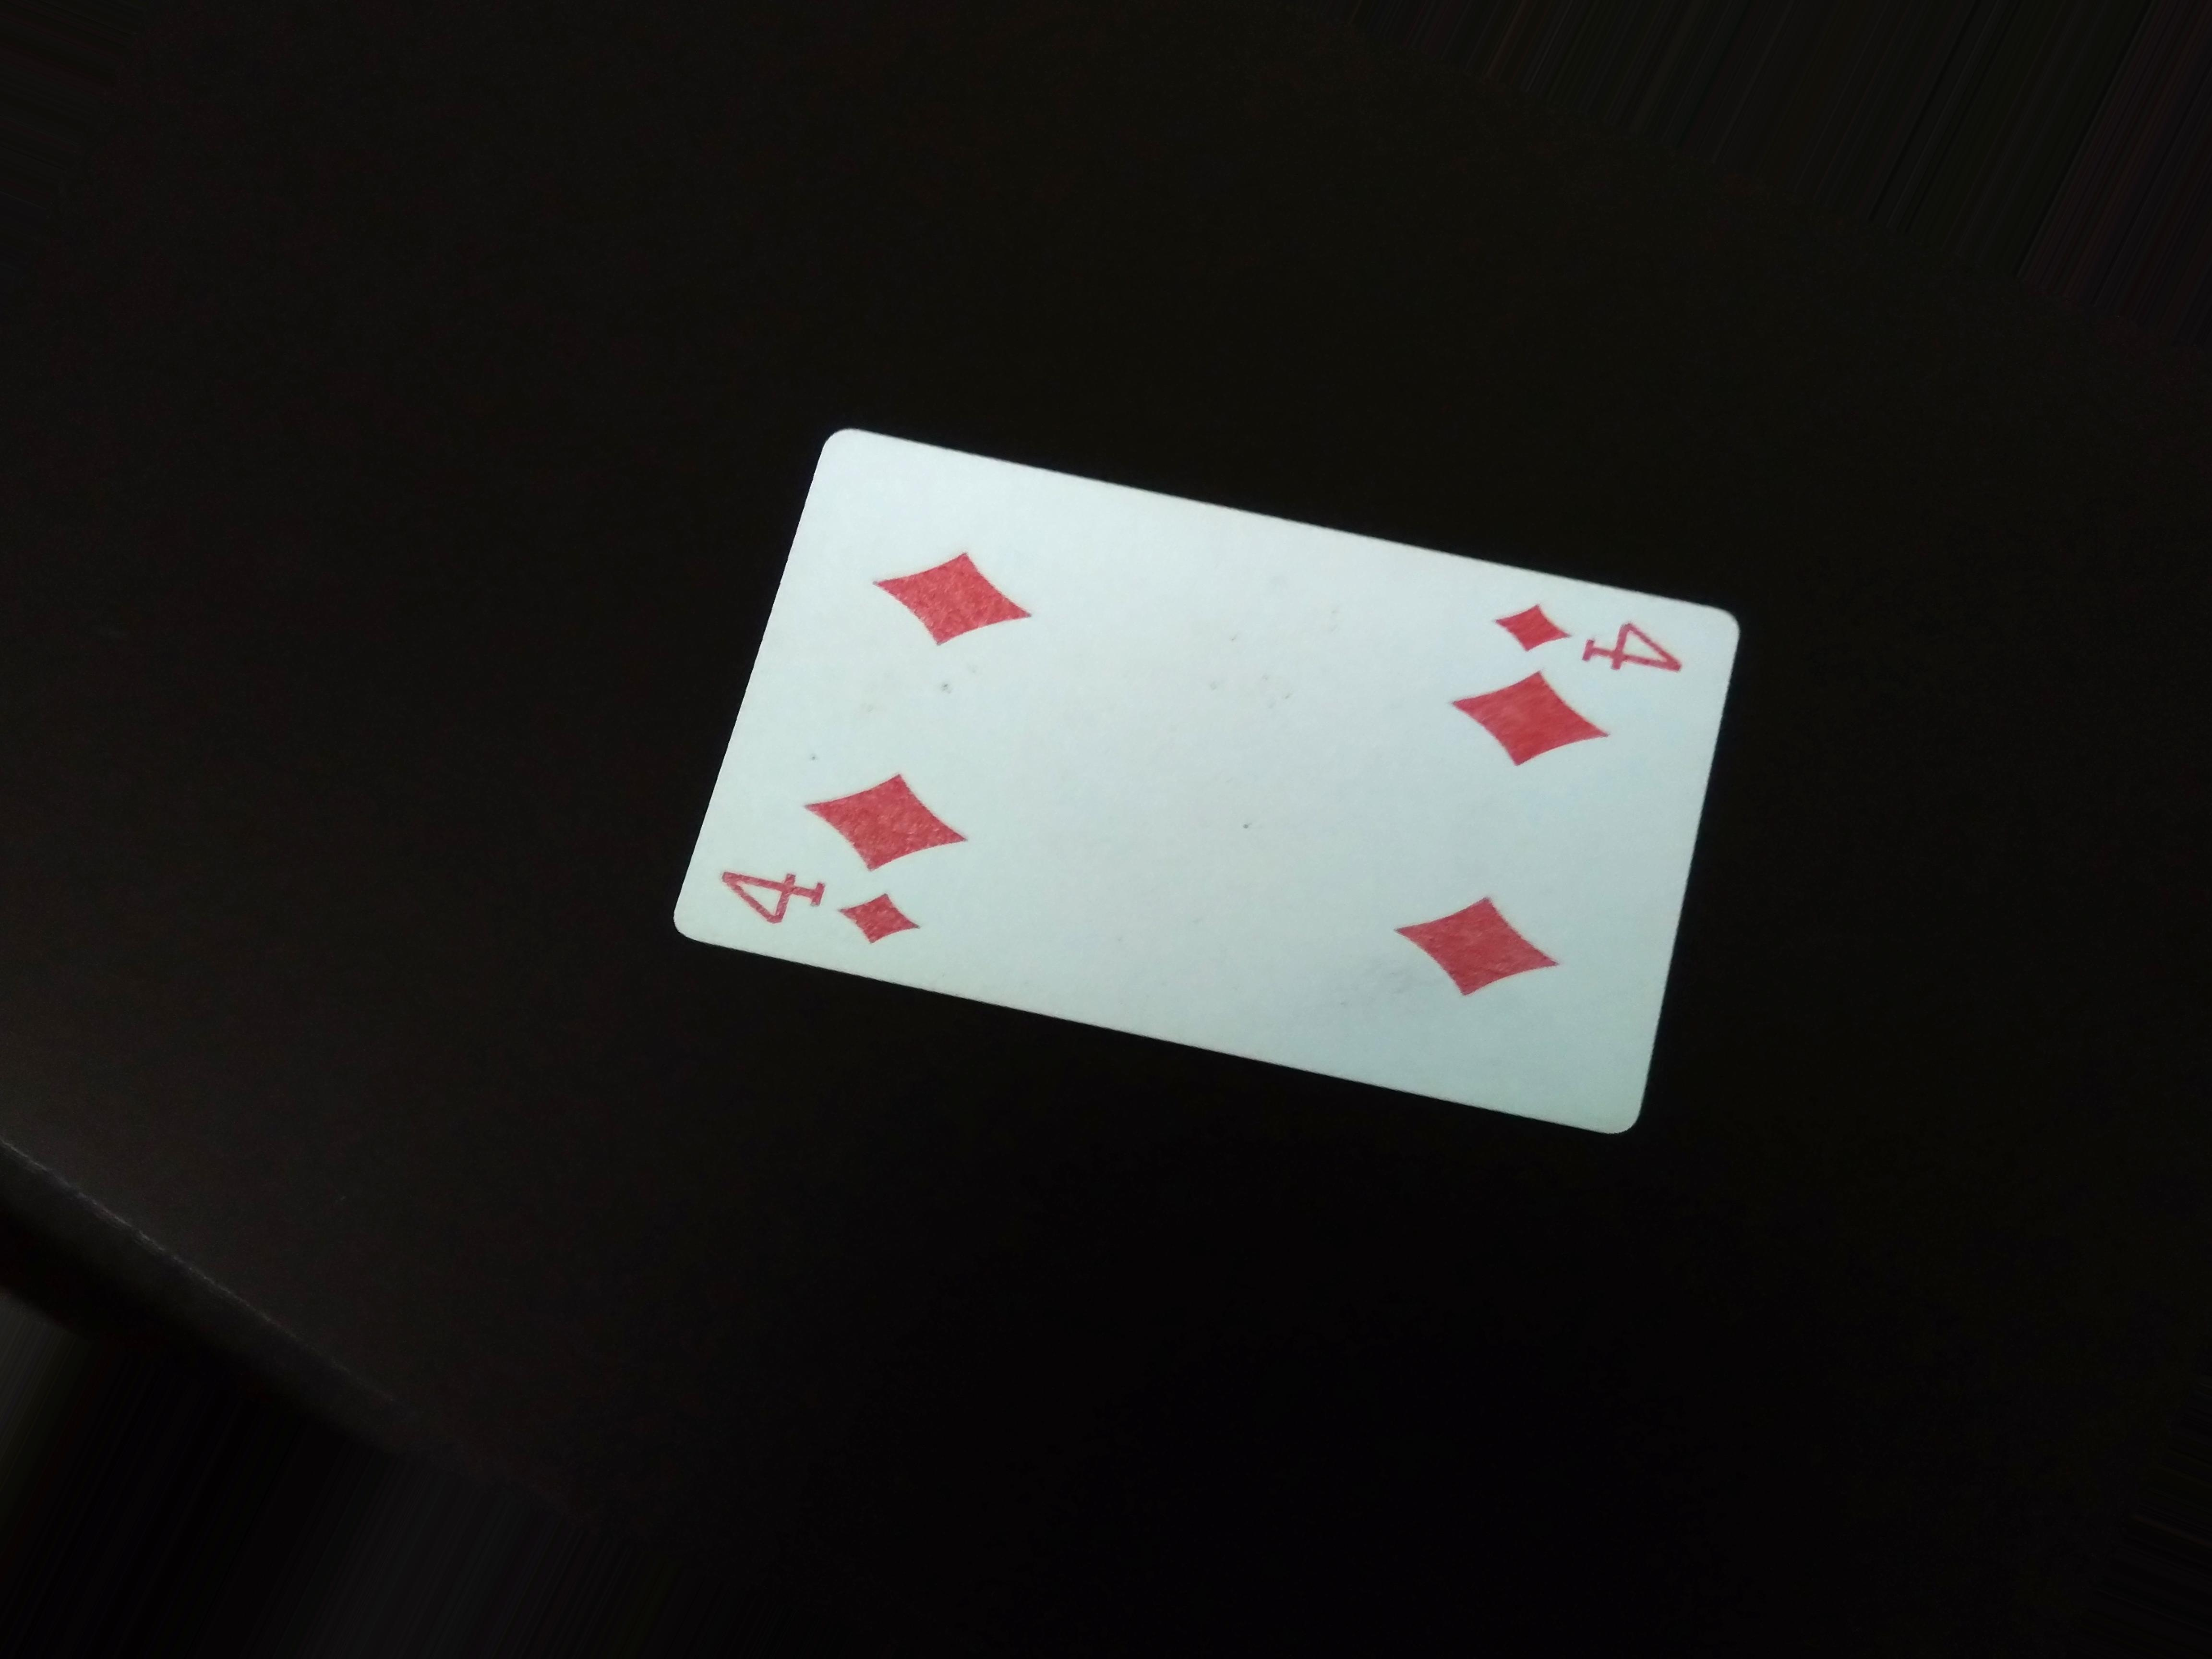4D: (718, 857, 979, 955)
